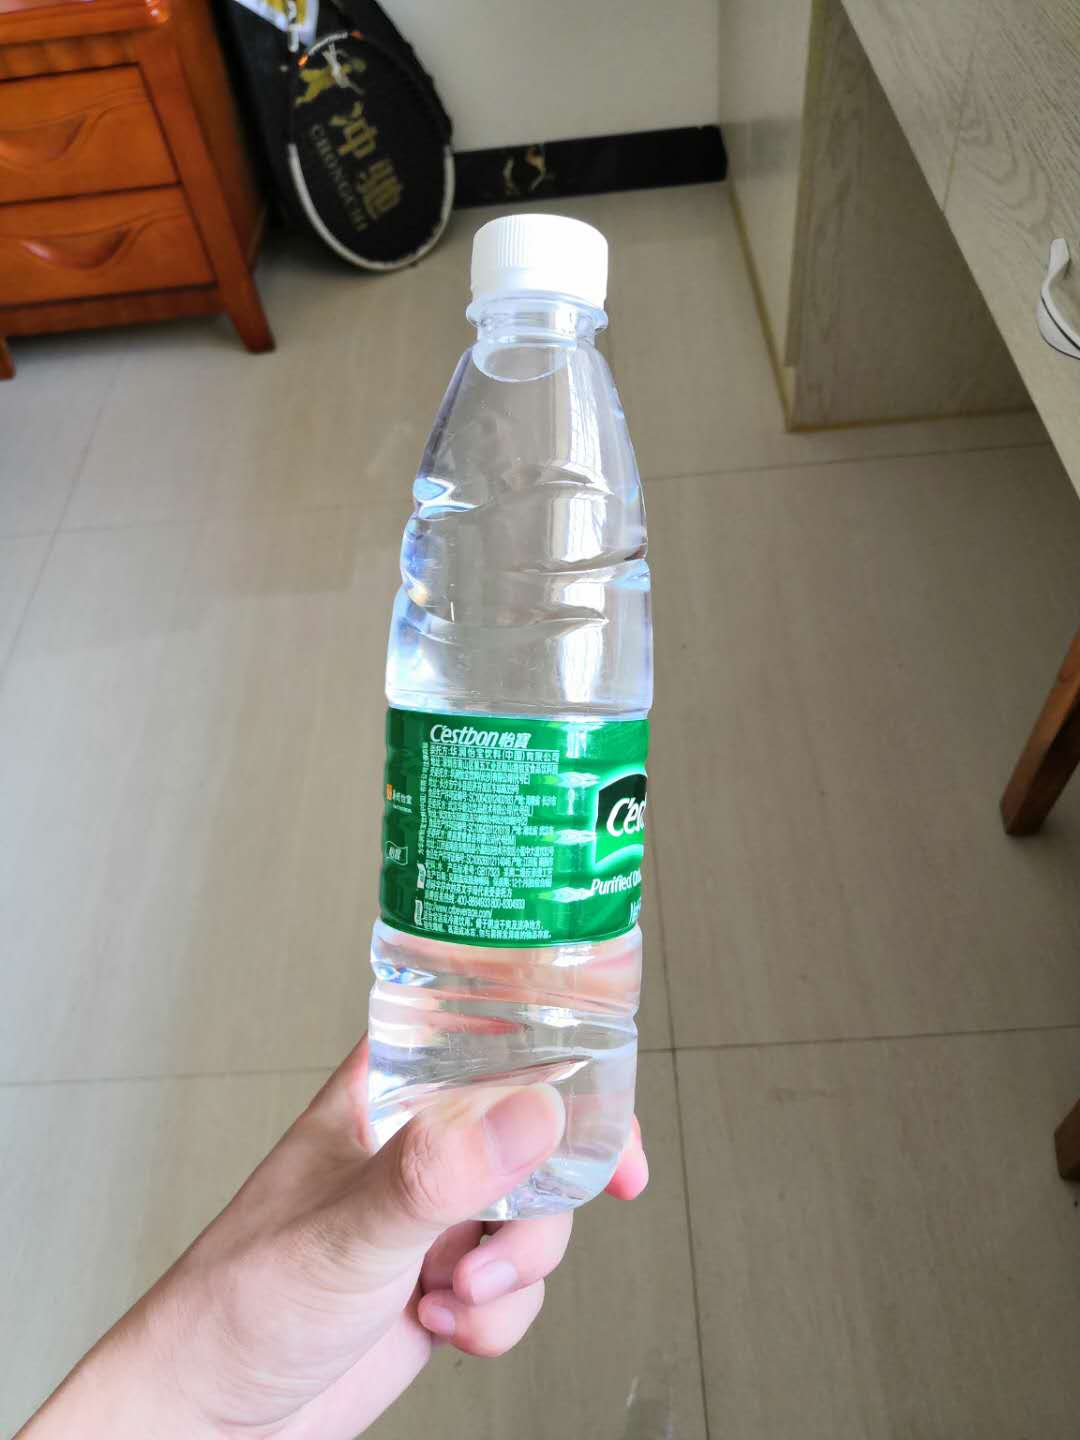怡宝: (381, 214, 648, 1226)
